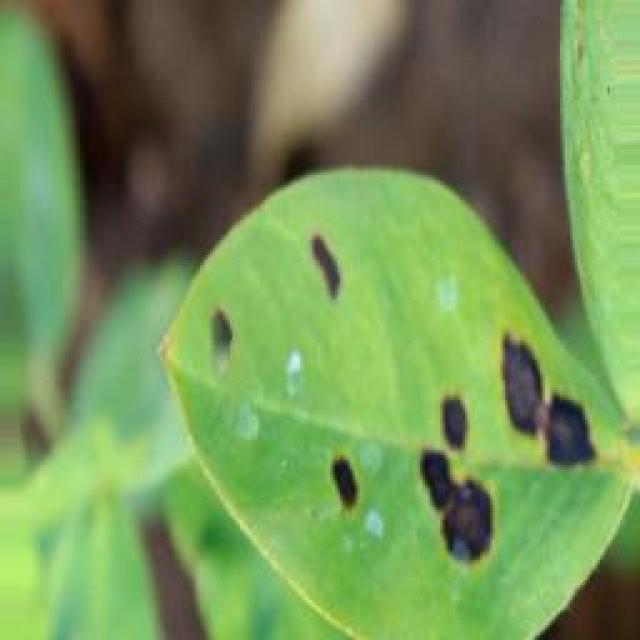Yellowish: (195, 187, 608, 577)
